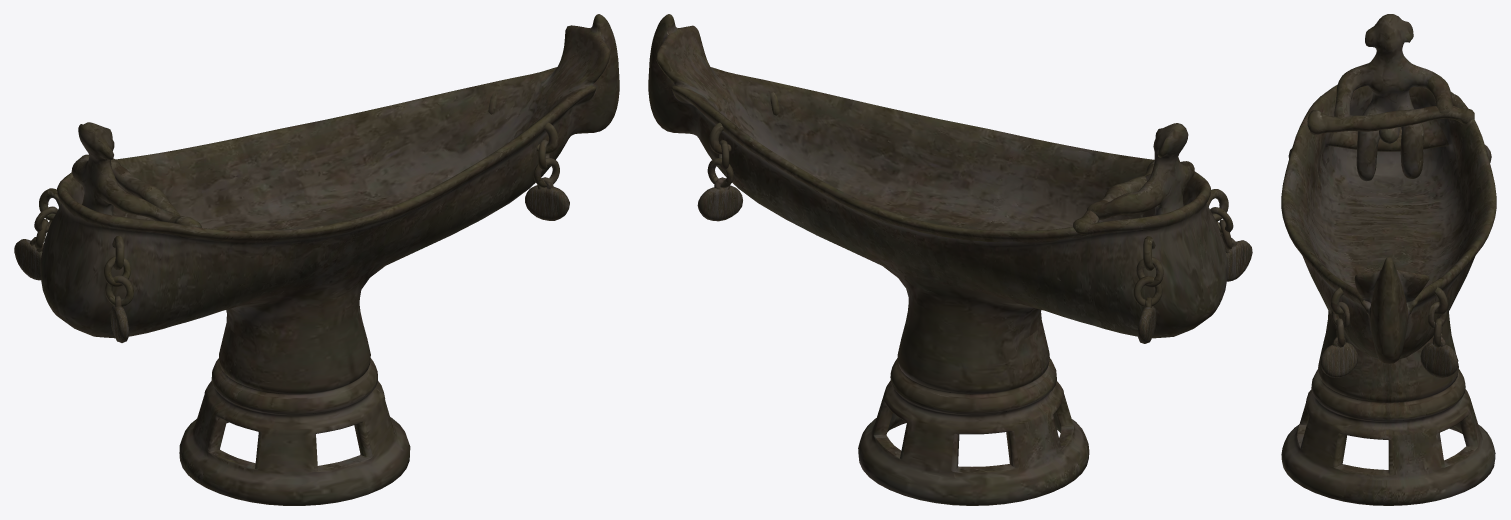
The model's file is boatS.glb.
3 views of the same model, side by side, from view 1: azimuth 30°, elevation 25°; view 2: azimuth 150°, elevation 25°; view 3: azimuth 270°, elevation 25° (orthographic). The views are drawn at different scales.
Parts seen in each view (by area): view 1: SM_24AR0002_Low_24AR0002_0; view 2: SM_24AR0002_Low_24AR0002_0; view 3: SM_24AR0002_Low_24AR0002_0.
Boxes of the visible parts, box(x1,y1,x2,y2) form: SM_24AR0002_Low_24AR0002_0: box(14, 14, 619, 505); SM_24AR0002_Low_24AR0002_0: box(648, 14, 1252, 505); SM_24AR0002_Low_24AR0002_0: box(1281, 14, 1496, 505).
Size of the model in its own units: 0.2307 by 0.1511 by 0.0828.
1 material, 1 textured.
